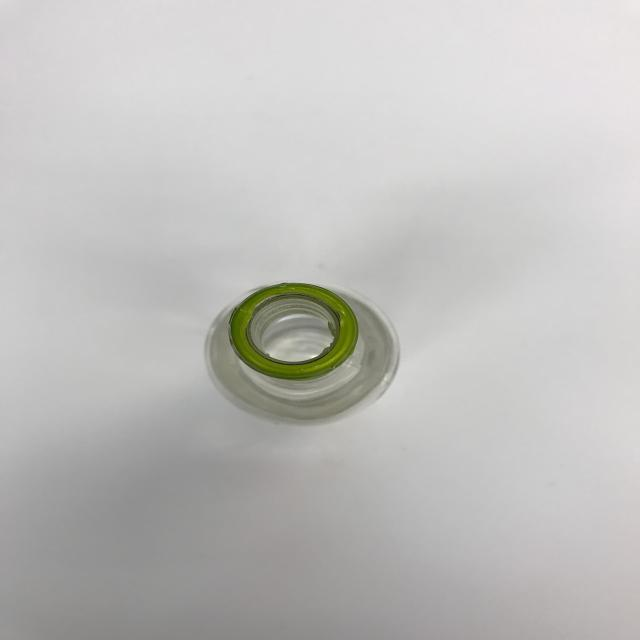glass: (201, 282, 402, 429)
